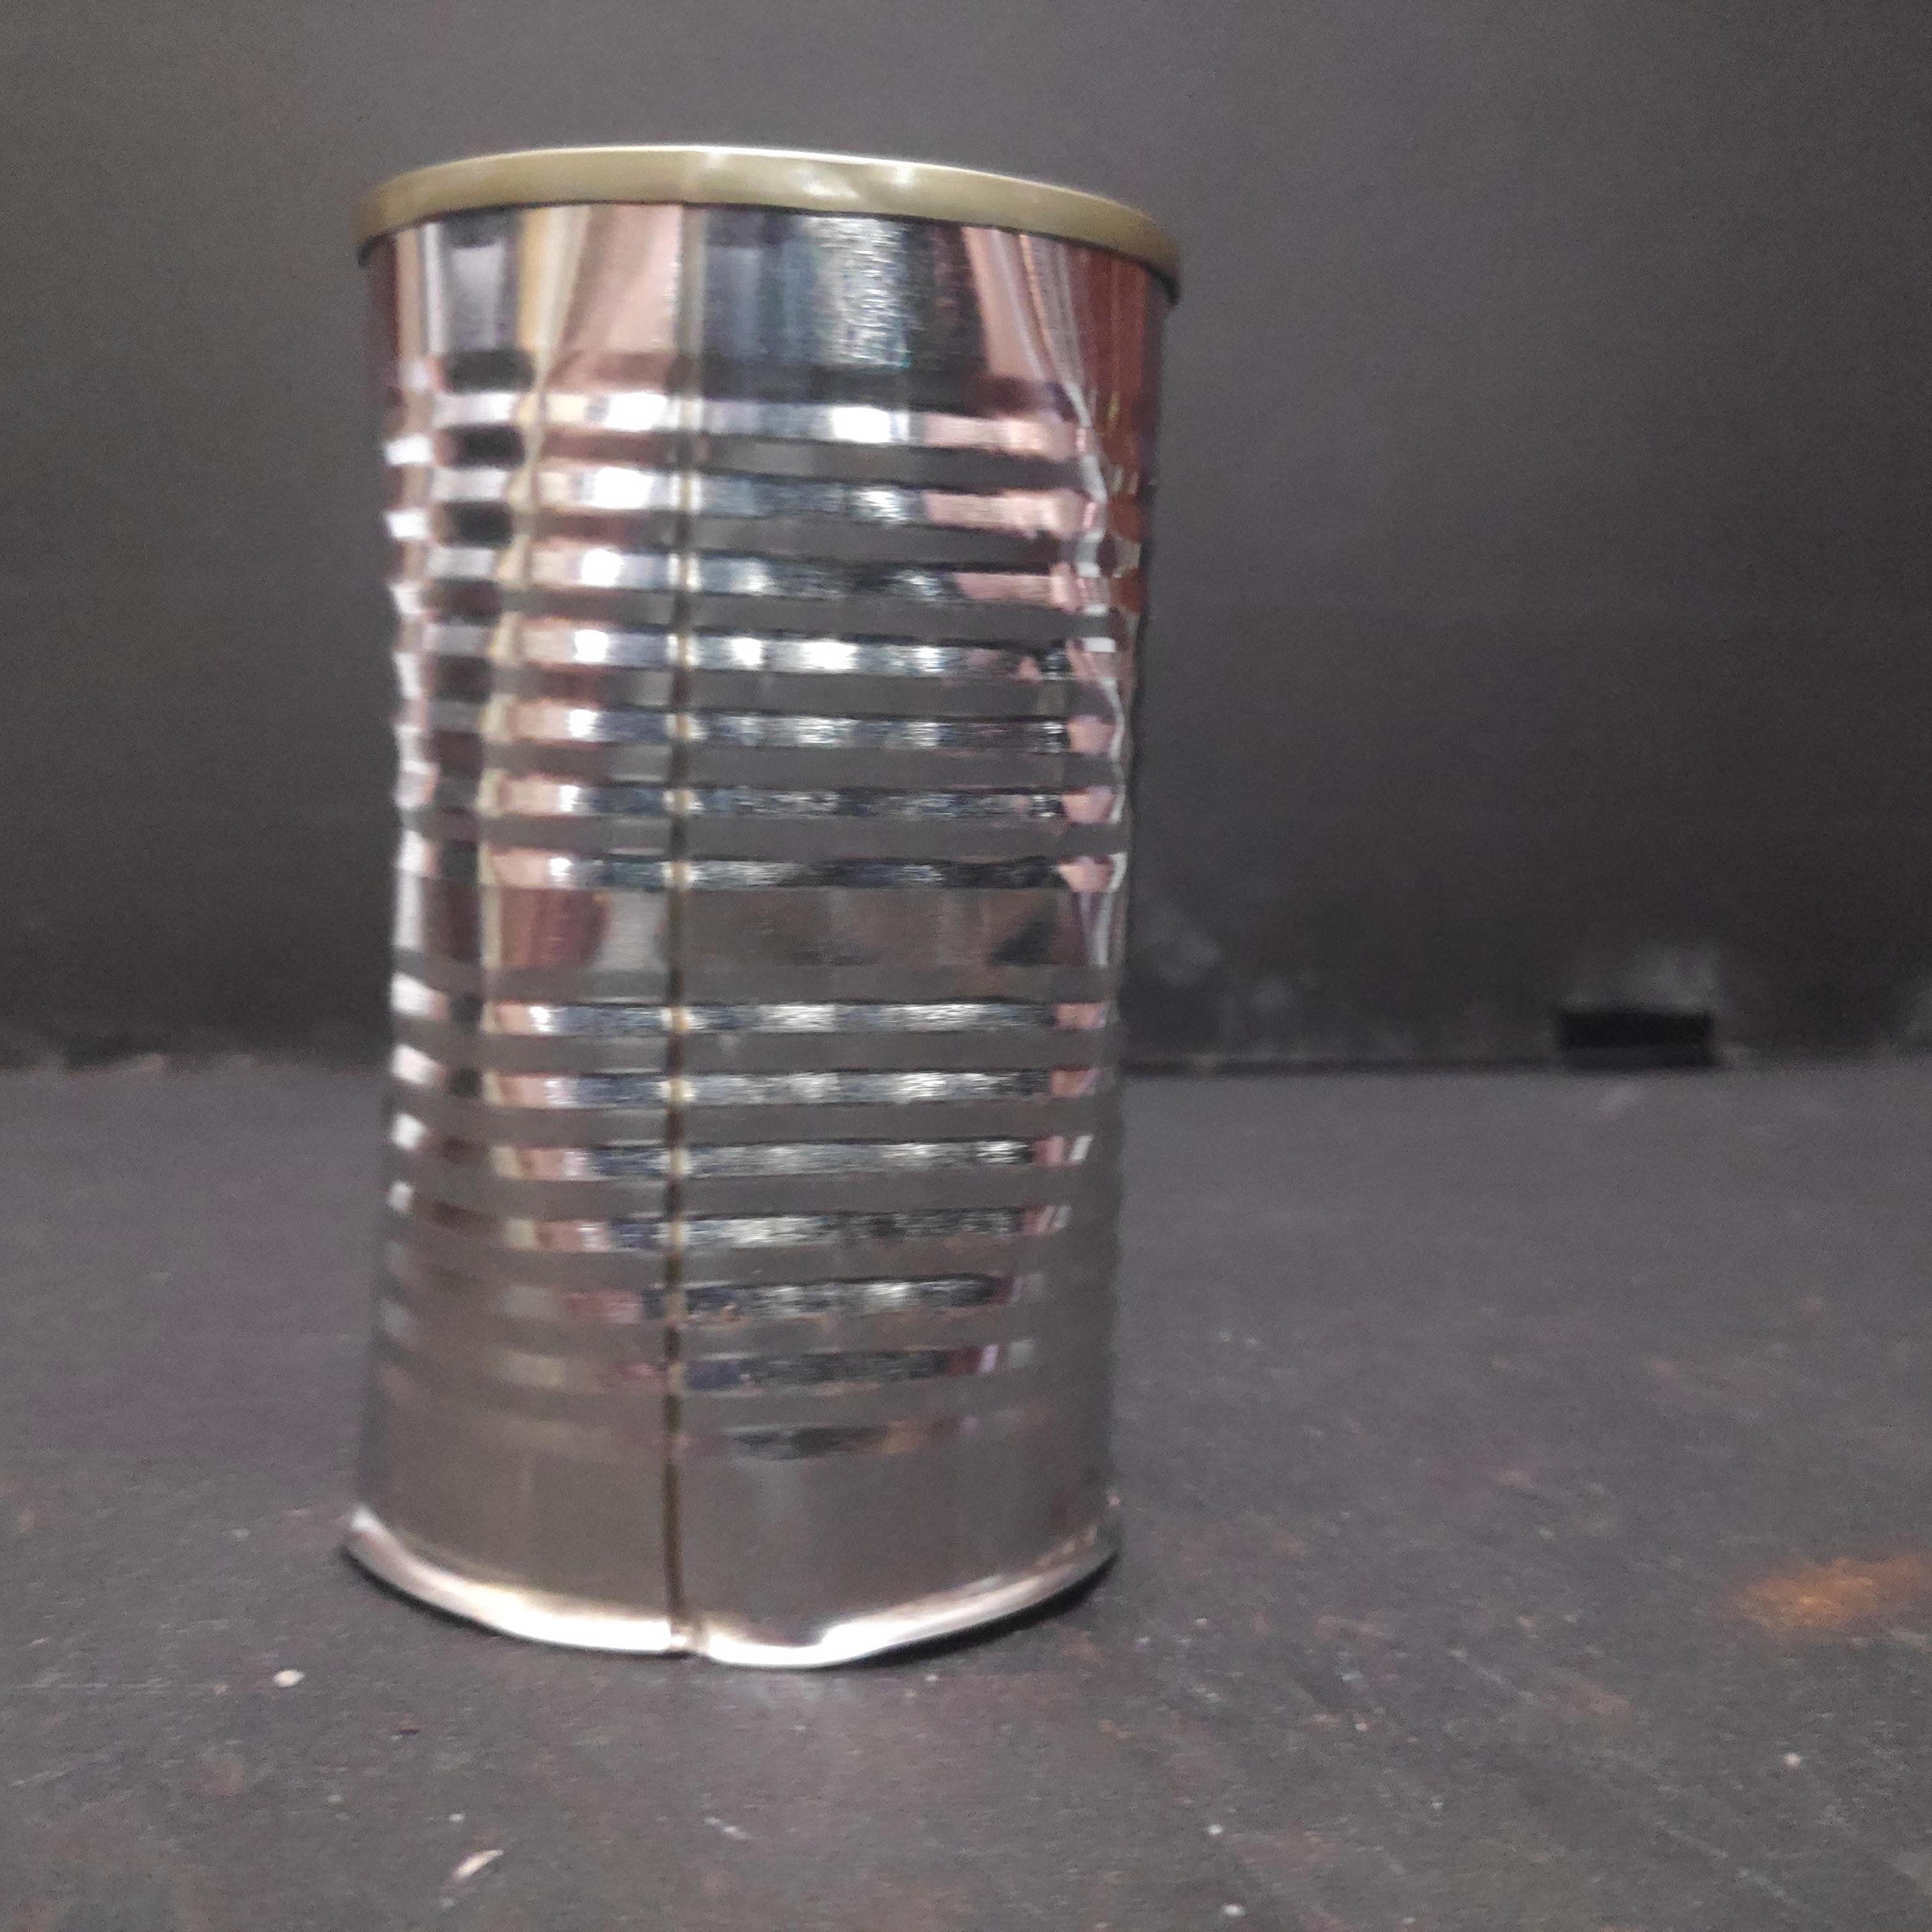Minor Defect: (333, 125, 1194, 1683)
